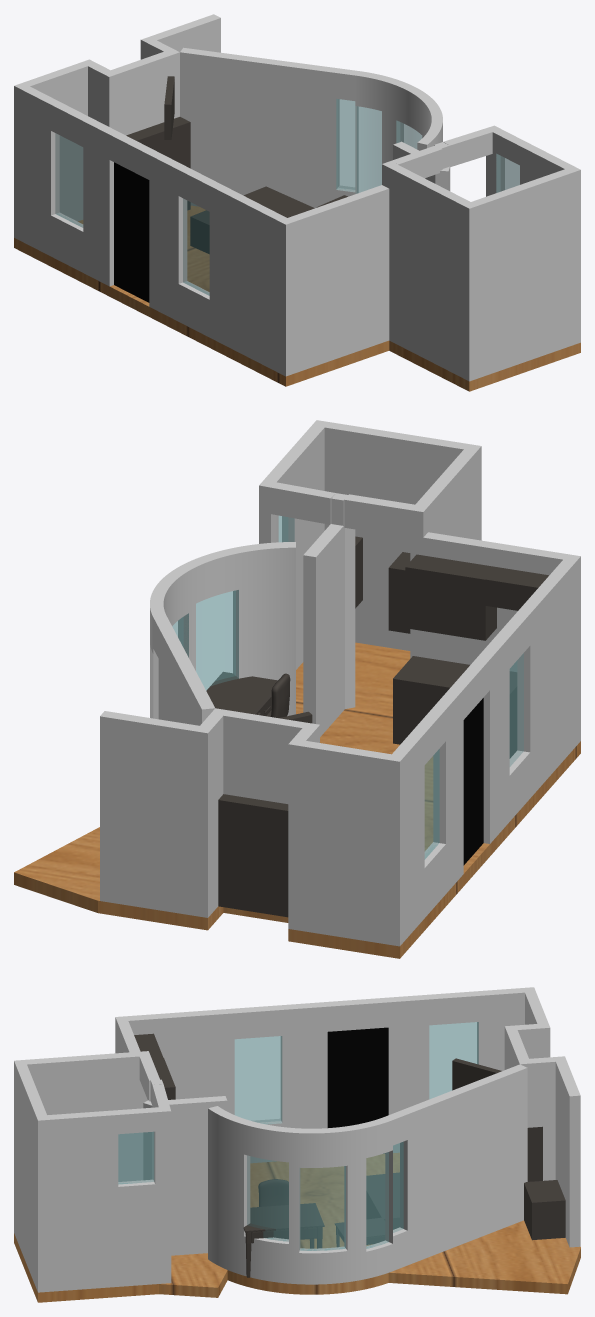
The model's file is Jan 5, File 3.obj.
3 views of the same model, one above another, from view 1: azimuth 30°, elevation 25°; view 2: azimuth 150°, elevation 25°; view 3: azimuth 270°, elevation 25° (orthographic). The views are drawn at different scales.
Visible parts, largest first — view 1: submesh_30, submesh_27, submesh_23, submesh_24, submesh_11, submesh_32, submesh_35, submesh_39, submesh_25, submesh_29, submesh_22, submesh (+12 smaller); view 2: submesh_30, submesh_22, submesh_19, submesh_32, submesh_35, submesh_23, submesh_13, submesh_15, submesh_16, submesh_24, submesh_25, submesh_21 (+15 smaller); view 3: submesh_30, submesh_27, submesh_29, submesh_35, submesh_32, submesh_11, submesh_15, submesh_39, submesh_23, submesh_3, submesh_19, submesh_33 (+22 smaller).
Part boxes in pixels (x1,y1,x2,y2): submesh_30: (14,83,286,372); submesh_27: (180,47,358,208); submesh_23: (462,169,572,381); submesh_24: (278,185,389,376); submesh_11: (382,161,470,377); submesh_32: (14,206,580,391); submesh_35: (355,71,442,193); submesh_39: (114,162,149,302); submesh_25: (102,50,179,135); submesh_29: (492,129,580,345); submesh_22: (23,59,96,221); submesh: (55,133,83,227); submesh_30: (387,559,576,946); submesh_22: (288,739,391,944); submesh_19: (100,711,199,915); submesh_32: (14,642,580,958); submesh_35: (150,542,295,719); submesh_23: (324,422,481,650); submesh_13: (218,794,288,917); submesh_15: (303,524,344,736); submesh_16: (405,554,496,640); submesh_24: (423,532,580,745); submesh_25: (213,708,319,803); submesh_21: (195,708,227,917); submesh_30: (126,987,535,1162); submesh_27: (385,1064,527,1270); submesh_29: (36,1107,160,1292); submesh_35: (208,1106,392,1284); submesh_32: (14,1153,580,1302); submesh_11: (25,1051,150,1181); submesh_15: (168,1096,227,1255); submesh_39: (327,1027,388,1127); submesh_23: (14,1060,46,1286); submesh_3: (234,1036,281,1124); submesh_19: (555,1061,580,1247); submesh_33: (300,1166,345,1250).
Size of the model in its own units: 5.2 by 2.86 by 8.07.
40 materials, 1 textured.
